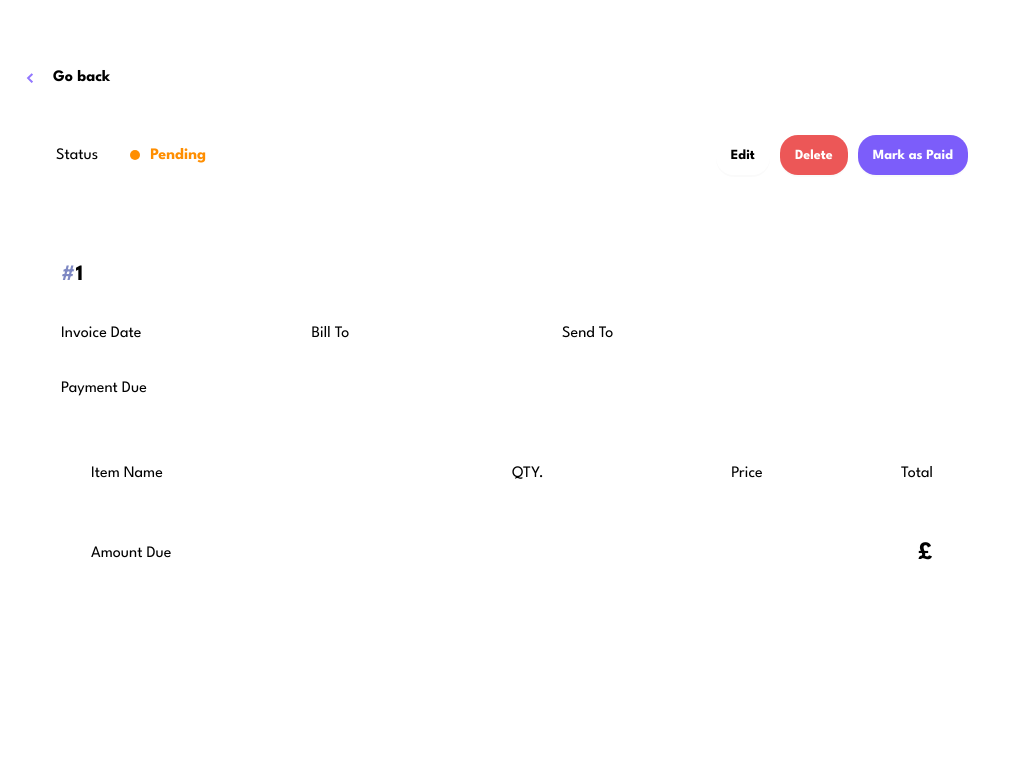
Test: Detail Invoice › should mark as paid when click button mark as paid
The image size is (1024, 768).
Click the button "Mark as Paid".
click(913, 155)  # box [858,135,968,175]
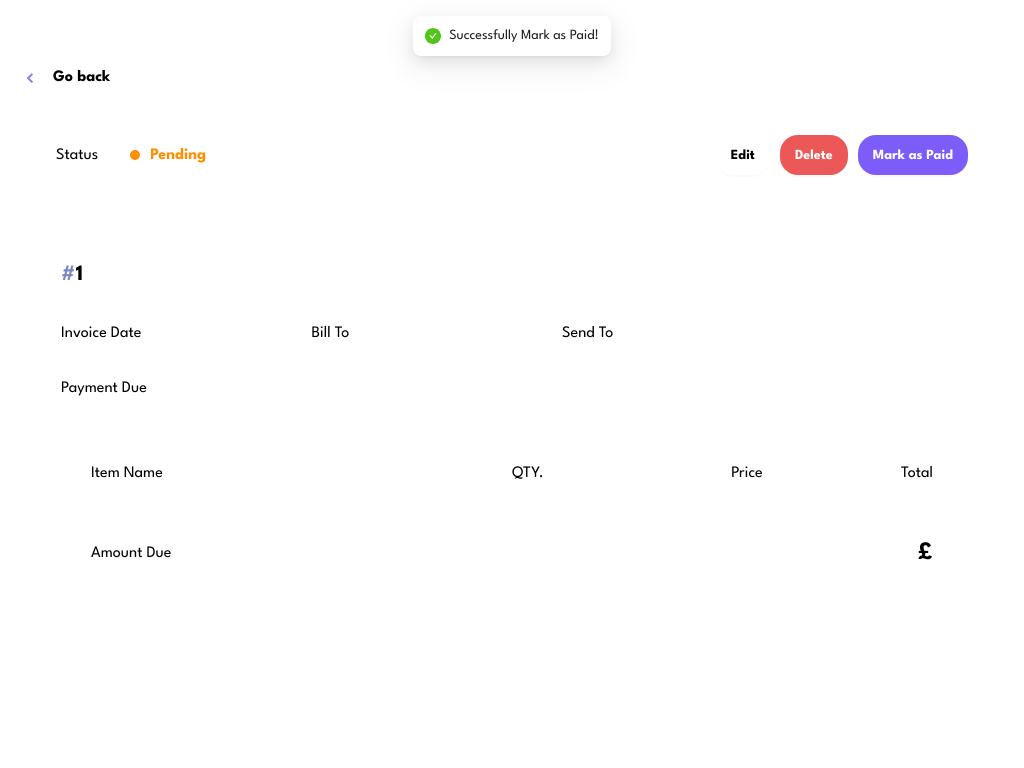
Expected: the text "Successfully Mark as Paid!" is shown, [449,29,599,42]
